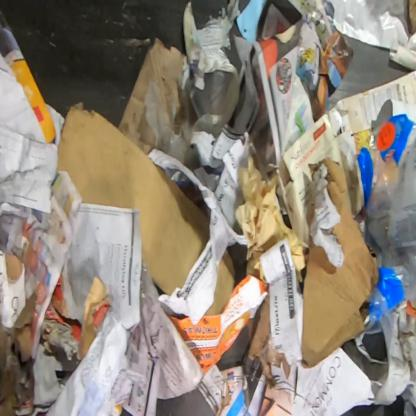cardboard: (56, 101, 210, 295), (301, 158, 379, 368), (276, 105, 365, 244), (118, 36, 198, 166), (337, 69, 415, 135), (247, 293, 292, 382), (40, 273, 82, 365), (204, 249, 236, 316)
soft_plastic: (358, 114, 415, 324), (326, 0, 409, 52)
